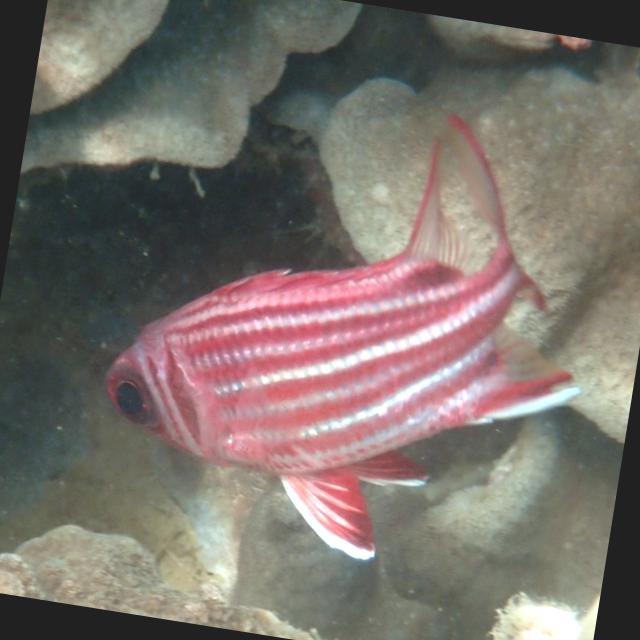Asker Baligi: (66, 44, 630, 604)
